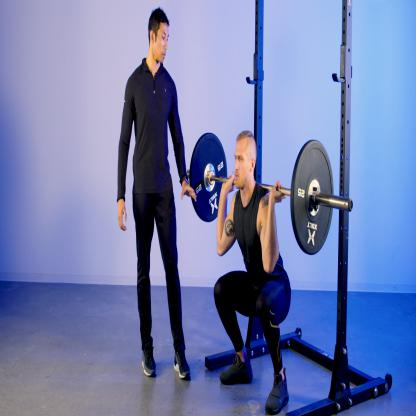Barbell: (289, 134, 354, 263)
